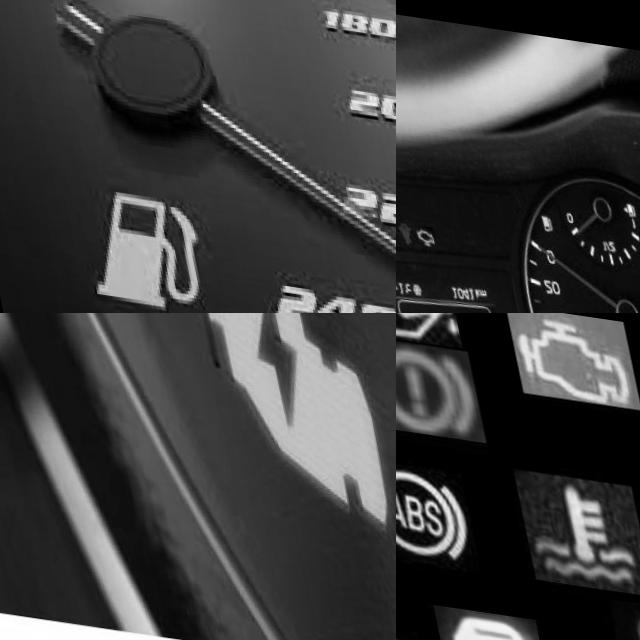Engine cooling system: (502, 458, 638, 583)
